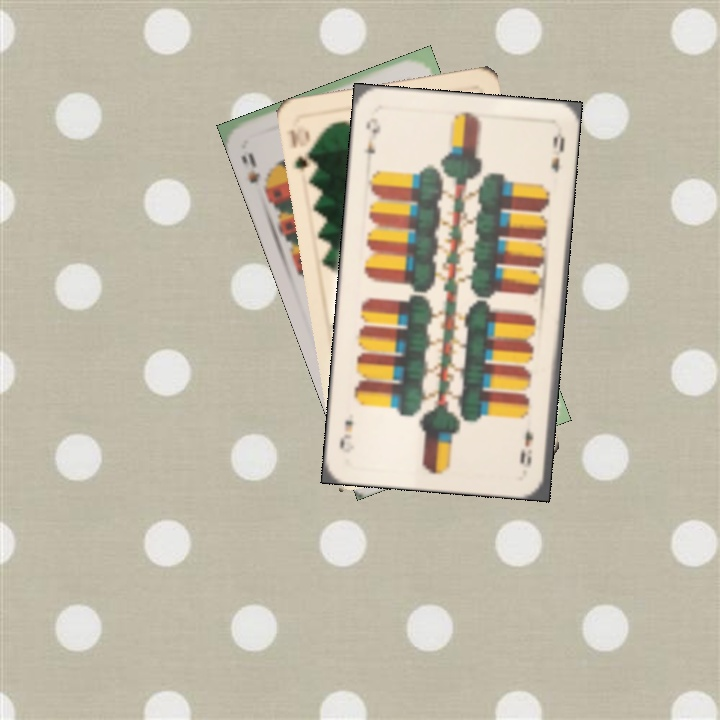E9: (362, 114, 383, 157), (516, 426, 536, 470)
G10: (284, 125, 313, 173)
S9: (237, 149, 271, 197)
